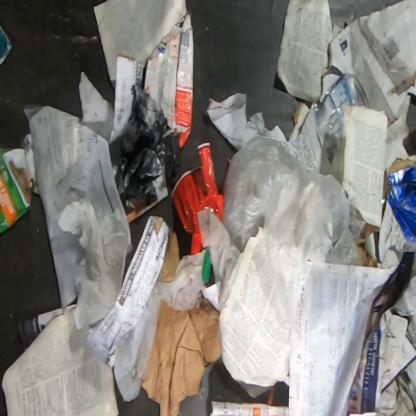cardboard: (288, 0, 415, 188), (143, 9, 195, 153), (378, 158, 416, 263), (0, 142, 32, 236)
rigid_plastic: (170, 142, 224, 255)
soft_plastic: (222, 138, 364, 326), (23, 104, 122, 310), (114, 82, 180, 207), (386, 326, 396, 338)
